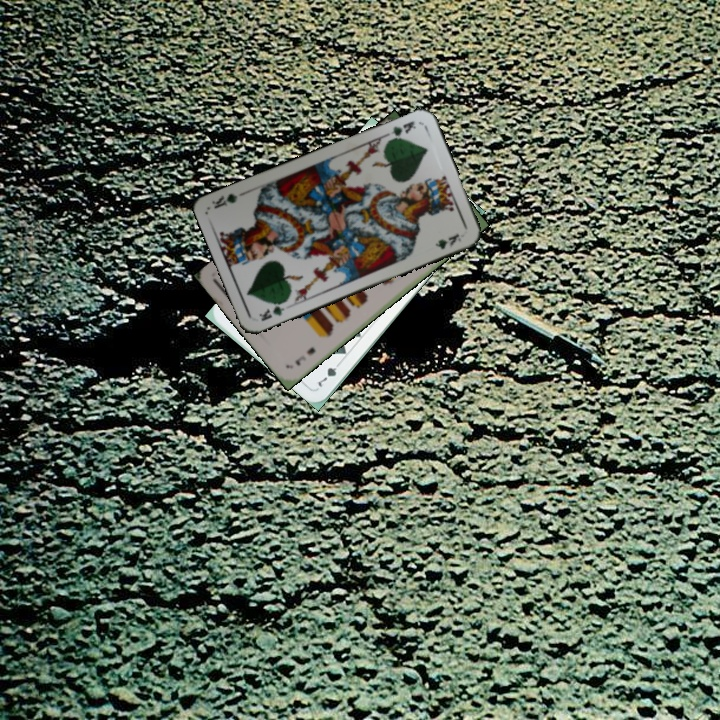E7: (291, 343, 318, 368)
G7: (314, 356, 345, 390)
GK: (382, 117, 419, 144), (255, 296, 290, 324)
